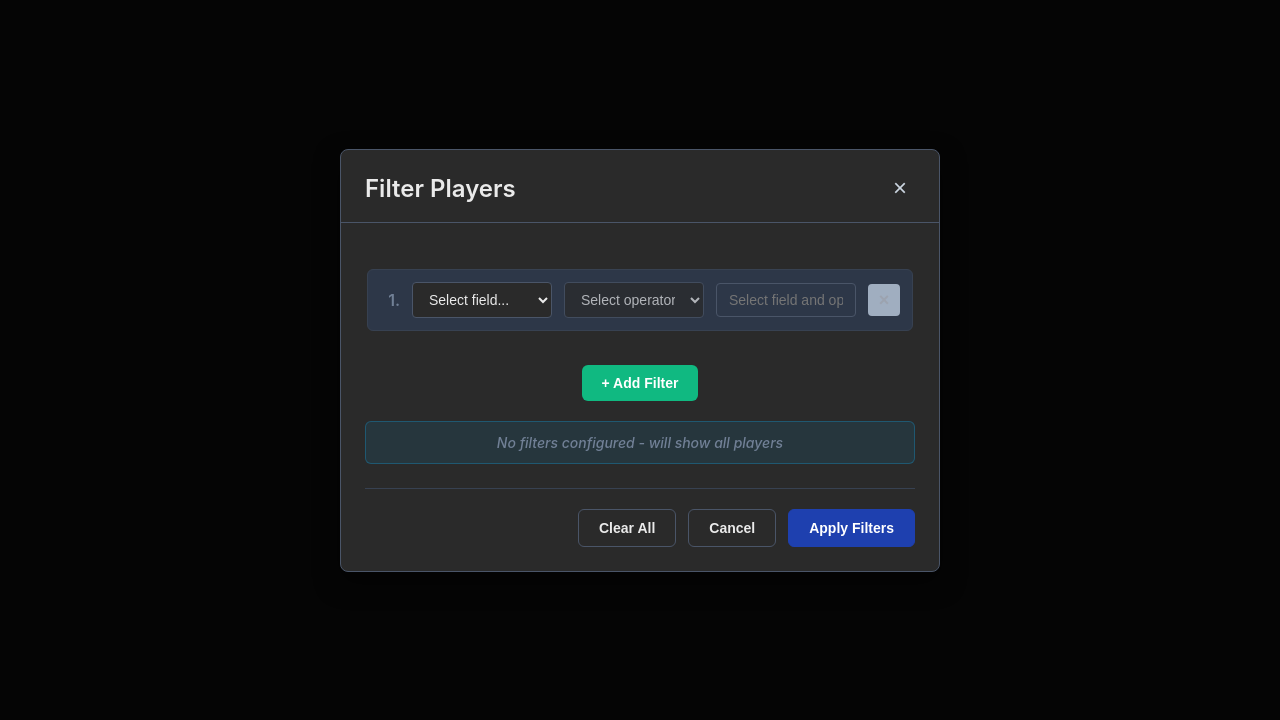
Test: FilterModal Component › Filter Field Selection › should enable operator dropdown when field is selected
This screenshot has width=1280, height=720.
expect the 2nd dropdown is disabled: met, box [564,282,704,318]
// Select a field
Select "Position" in the 1st dropdown: (482, 300) [412,282,552,318]
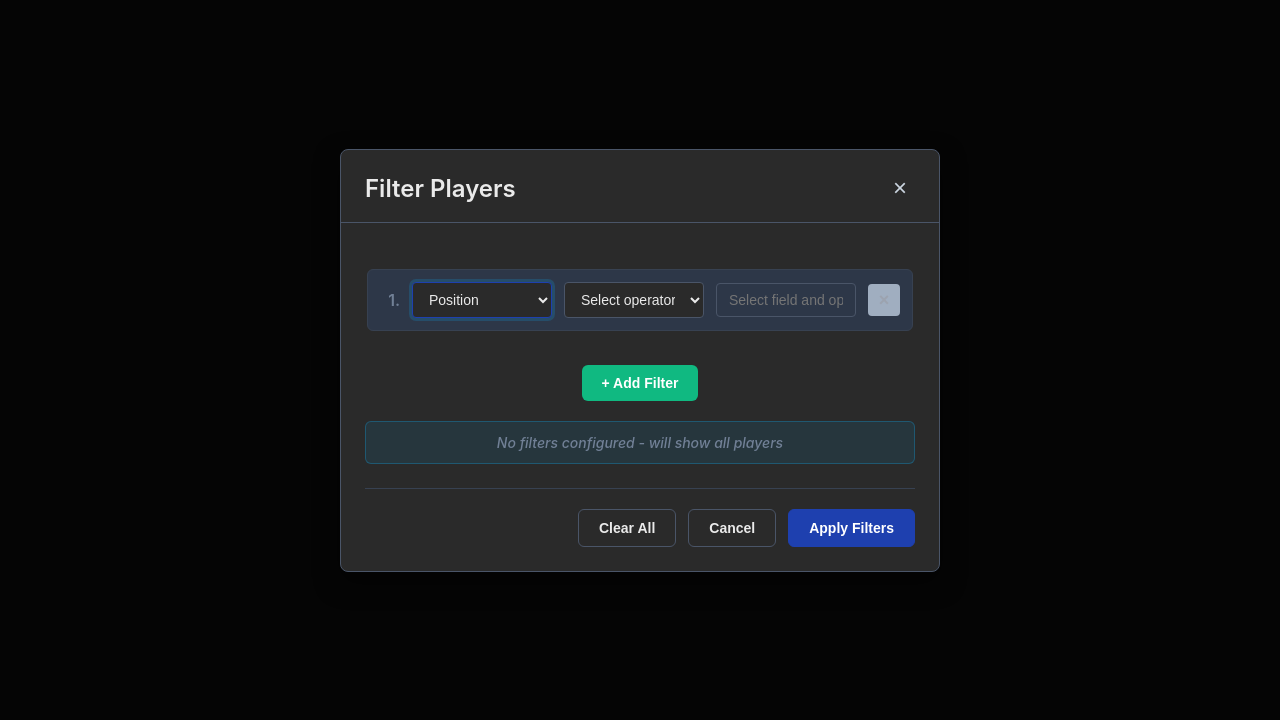
expect the 2nd dropdown is enabled: met, box [564,282,704,318]
